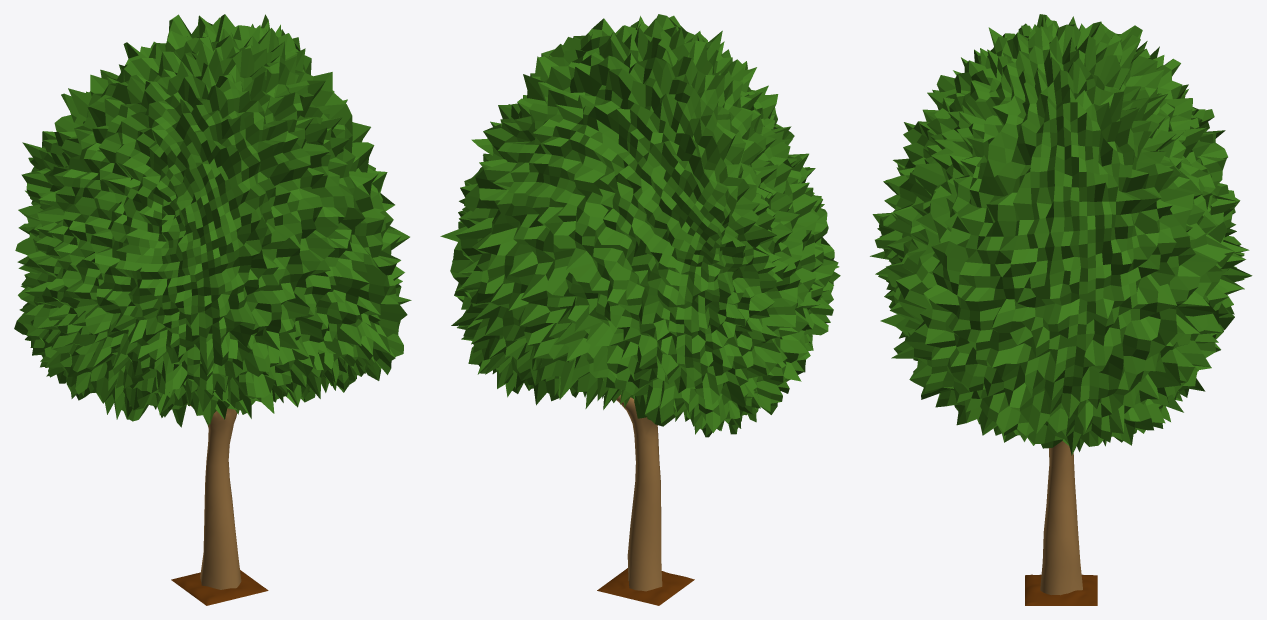
File: maple.glb
3 views of the same model, side by side, from view 1: azimuth 30°, elevation 25°; view 2: azimuth 150°, elevation 25°; view 3: azimuth 270°, elevation 25° (orthographic).
Parts seen in each view (by area): view 1: 5_nft_summer; view 2: 5_nft_summer; view 3: 5_nft_summer.
Boxes of the visible parts, bbox=[...] form: 5_nft_summer: bbox=[14, 14, 411, 605]; 5_nft_summer: bbox=[440, 14, 840, 605]; 5_nft_summer: bbox=[870, 14, 1252, 605].
Bounding box in the file's own units: 7.54 × 11.98 × 7.38.
